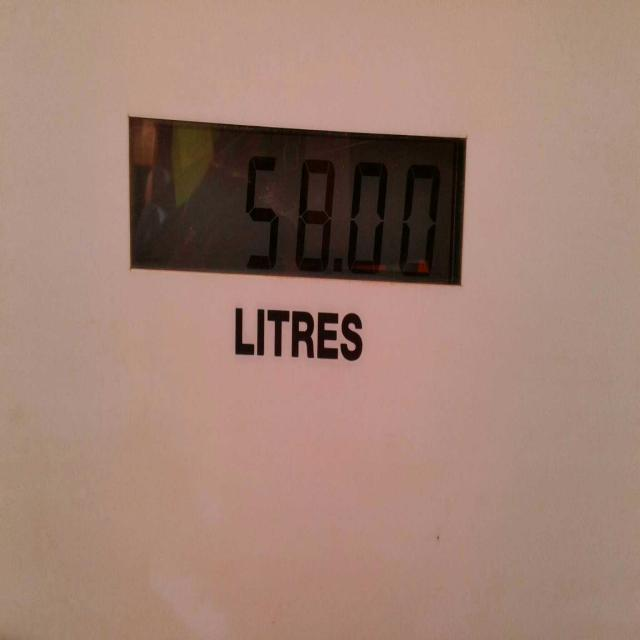.: (328, 243, 347, 283)
0: (395, 146, 446, 283), (345, 157, 398, 280)
5: (232, 146, 278, 284)
8: (290, 148, 337, 292)
